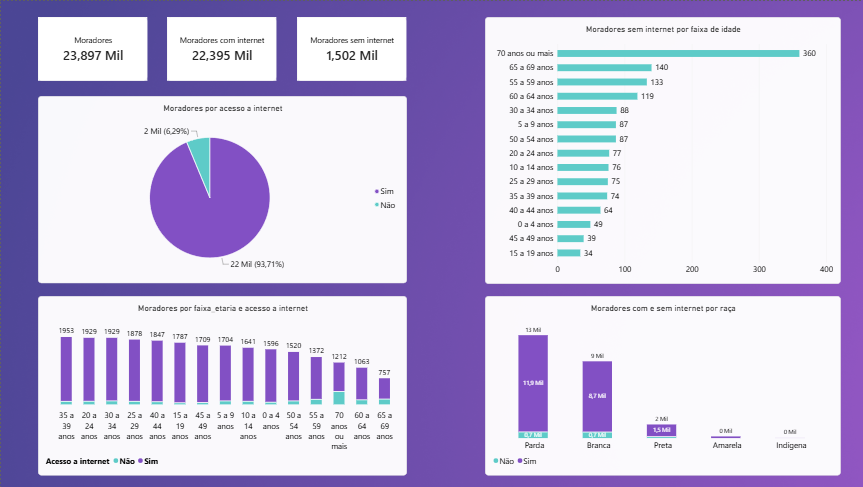

Layout of this report page (visuals, bound fields, positions):
{"tool":"powerbi","page":{"name":"Página 1","canvas":[1920,1080],"ordinal":0},"visuals":[{"type":"cardVisual","fields":{"Data":["Sum(tabela9942_limpa (1).moradores)"]},"box":[80.3,34.1,240,140],"z":0},{"type":"pieChart","title":"Moradores por acesso a internet","fields":{"Category":["tabela9942_limpa (1).conexao_internet"],"Y":["Sum(tabela9942_limpa (1).moradores)"]},"box":[80.3,209.3,810.3,411.3],"z":2},{"type":"columnChart","title":"Moradores por faixa_etaria e acesso a internet","fields":{"Category":["tabela9942_limpa (1).faixa_etaria"],"Series":["tabela9942_limpa (1).conexao_internet"],"Y":["Sum(tabela9942_limpa (1).moradores)"]},"box":[80.3,647.3,810.3,394.2],"z":3},{"type":"columnChart","title":"Moradores com e sem internet por raça","fields":{"Category":["tabela9942_limpa (1).cor_raca"],"Series":["tabela9942_limpa (1).conexao_internet"],"Y":["Sum(tabela9942_limpa (1).moradores)"]},"box":[1063.4,647.3,781.1,394.2],"z":4},{"type":"clusteredBarChart","title":"Moradores sem internet por faixa de idade","fields":{"Category":["tabela9942_limpa (1).faixa_etaria"],"Series":["tabela9942_limpa (1).conexao_internet"],"Y":["Sum(tabela9942_limpa (1).moradores)"]},"box":[1063.4,34.1,781.1,586.5],"z":5},{"type":"cardVisual","fields":{"Data":["tabela9942_limpa (1).Moradores com internet"]},"box":[365,34.1,240,140],"z":7},{"type":"cardVisual","fields":{"Data":["tabela9942_limpa (1).Moradores sem internet"]},"box":[649.7,34.1,240,140],"z":8}]}

Visuals, with their boxes in screenshot pixels (x1, y1, x2, y2), scaled from the page's 1920x1080 canvas onto the 863x487 screenshot:
cardVisual - Sum(tabela9942_limpa (1).moradores): Rect(36, 15, 144, 79)
"Moradores por acesso a internet" pieChart: Rect(36, 94, 400, 280)
"Moradores por faixa_etaria e acesso a internet" columnChart: Rect(36, 292, 400, 470)
"Moradores com e sem internet por raça" columnChart: Rect(478, 292, 829, 470)
"Moradores sem internet por faixa de idade" clusteredBarChart: Rect(478, 15, 829, 280)
cardVisual - tabela9942_limpa (1).Moradores com internet: Rect(164, 15, 272, 79)
cardVisual - tabela9942_limpa (1).Moradores sem internet: Rect(292, 15, 400, 79)
